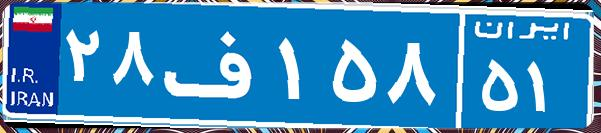1: (273, 28, 330, 110), (525, 38, 570, 115)
2: (57, 26, 110, 107)
5: (330, 28, 385, 110), (475, 38, 525, 113)
8: (385, 28, 445, 110), (110, 28, 158, 105)
ف: (158, 15, 273, 115)
